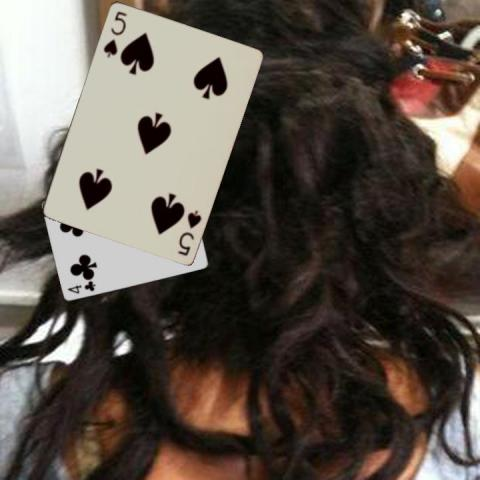4c: (65, 277, 97, 295)
5s: (100, 8, 128, 60), (175, 206, 203, 257)
